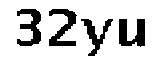2: (43, 5, 80, 49)
3: (11, 4, 41, 48)
u: (116, 15, 148, 50)
y: (80, 13, 115, 60)
